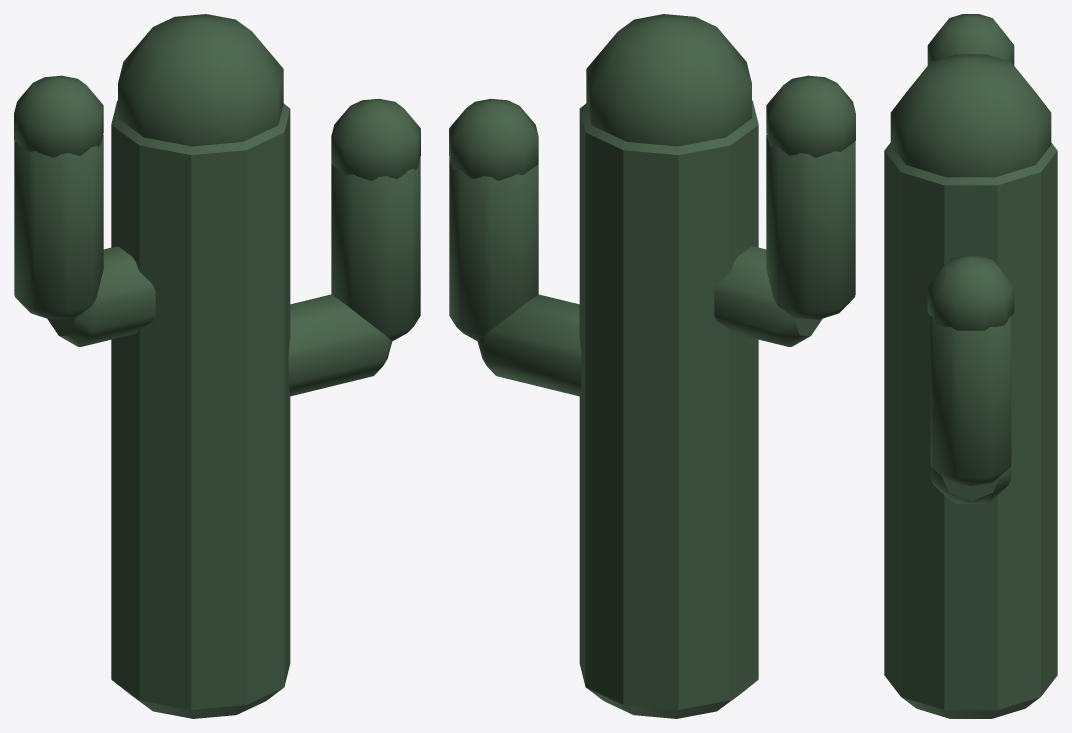
File: env_cactus.glb
3 renders of one model, left to right at view 1: azimuth 30°, elevation 25°; view 2: azimuth 150°, elevation 25°; view 3: azimuth 270°, elevation 25°, orthographic. The views are drawn at different scales.
Visible parts, largest first — view 1: Cylinder, Sphere, Cylinder.004, Cylinder.002, Cylinder.001, Sphere.002, Sphere.001, Cylinder.003; view 2: Cylinder, Sphere, Cylinder.004, Cylinder.002, Cylinder.001, Sphere.002, Sphere.001, Cylinder.003; view 3: Cylinder, Sphere, Cylinder.002, Sphere.001, Sphere.002, Cylinder.001.
Boxes of the visible parts, x1=… form: Cylinder: x1=111, y1=100, x2=290, y2=718; Sphere: x1=118, y1=14, x2=283, y2=146; Cylinder.004: x1=14, y1=134, x2=103, y2=319; Cylinder.002: x1=331, y1=157, x2=420, y2=341; Cylinder.001: x1=288, y1=294, x2=392, y2=396; Sphere.002: x1=14, y1=75, x2=103, y2=157; Sphere.001: x1=331, y1=98, x2=420, y2=180; Cylinder.003: x1=47, y1=246, x2=155, y2=346; Cylinder: x1=579, y1=100, x2=758, y2=718; Sphere: x1=586, y1=14, x2=751, y2=146; Cylinder.004: x1=766, y1=134, x2=855, y2=319; Cylinder.002: x1=449, y1=157, x2=538, y2=341; Cylinder.001: x1=477, y1=294, x2=581, y2=396; Sphere.002: x1=766, y1=75, x2=855, y2=157; Sphere.001: x1=449, y1=98, x2=538, y2=180; Cylinder.003: x1=714, y1=246, x2=822, y2=346; Cylinder: x1=884, y1=143, x2=1057, y2=718; Sphere: x1=890, y1=54, x2=1051, y2=177; Cylinder.002: x1=930, y1=316, x2=1011, y2=485; Sphere.001: x1=927, y1=255, x2=1014, y2=330; Sphere.002: x1=927, y1=14, x2=1014, y2=65; Cylinder.001: x1=930, y1=466, x2=1011, y2=503.
Bounding box in the file's own units: 0.9409 × 1.53 × 0.38.
